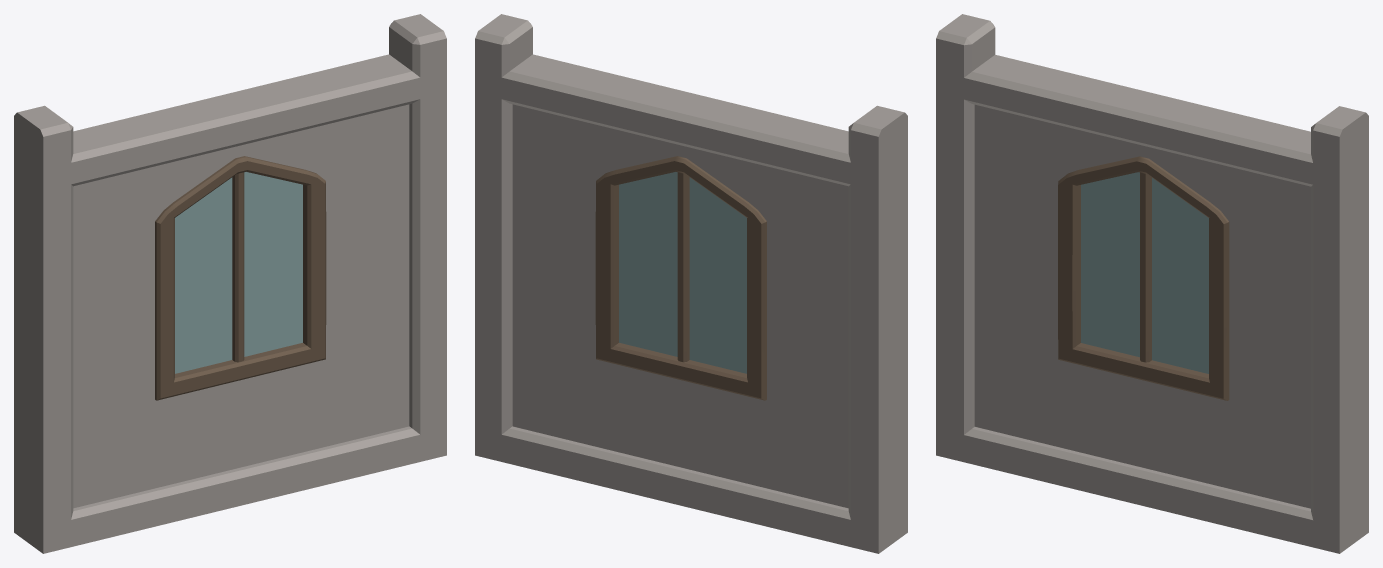
The model's file is Wall_Window_1.fbx.
3 renders of one model, left to right at view 1: azimuth 30°, elevation 25°; view 2: azimuth 150°, elevation 25°; view 3: azimuth 330°, elevation 25°, orthographic.
Visible parts, largest first — view 1: Wall_Window_1; view 2: Wall_Window_1; view 3: Wall_Window_1.
Boxes of the visible parts, x1,y1,x2,y2 form: Wall_Window_1: (14, 14, 446, 553); Wall_Window_1: (475, 14, 907, 553); Wall_Window_1: (936, 14, 1368, 553).
Bounding box in the file's own units: 4 × 4 × 0.5.
